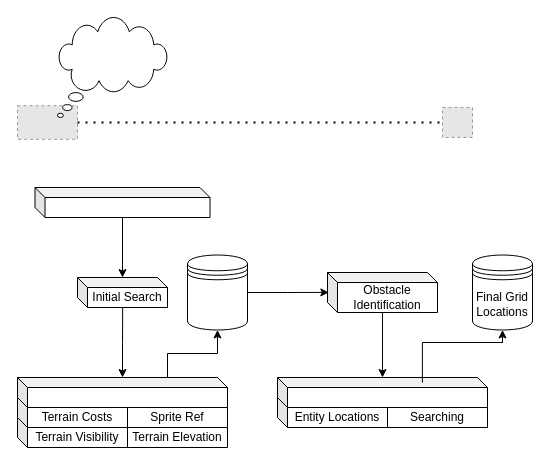
Some shapes in this 550 by 465 pixel diagram are drawn without their labels. Grey dashed boxes stand in for pictures. The centre of each missing label's shape, as x and y in pixels:
Grid: pixel 122 392
Grid Locations: pixel 217 292
Man. 200 meters. Front: pixel 112 67
Path Searching (A*): pixel 122 202
Quad Tree: pixel 382 392
